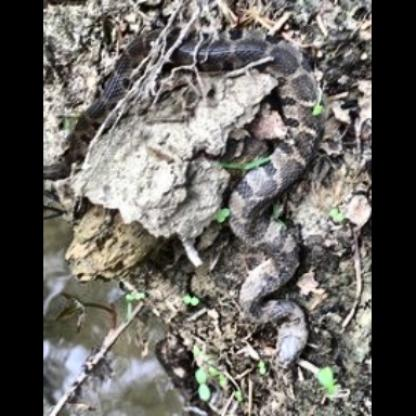Snake: (72, 5, 324, 408)
